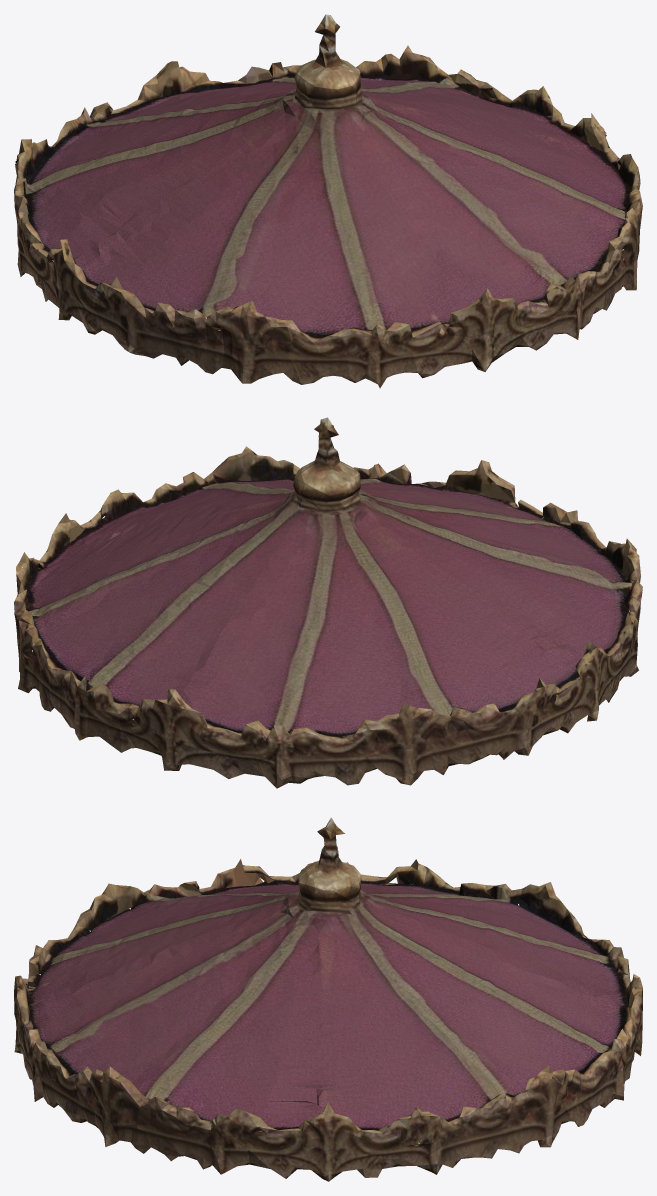
Rendered from park_carousel_roof_1117.glb.
3 views of the same model, one above another, from view 1: azimuth 30°, elevation 25°; view 2: azimuth 150°, elevation 25°; view 3: azimuth 270°, elevation 25° (orthographic).
Visible parts, largest first — view 1: world; view 2: world; view 3: world.
Boxes of the visible parts, left/top/right/bottom form: world: left=14, top=14, right=642, bottom=388; world: left=14, top=417, right=642, bottom=788; world: left=14, top=817, right=642, bottom=1181.
Bounding box in the file's own units: 2.16 × 1 × 2.21.
Materials: 1 (1 with a texture image).
